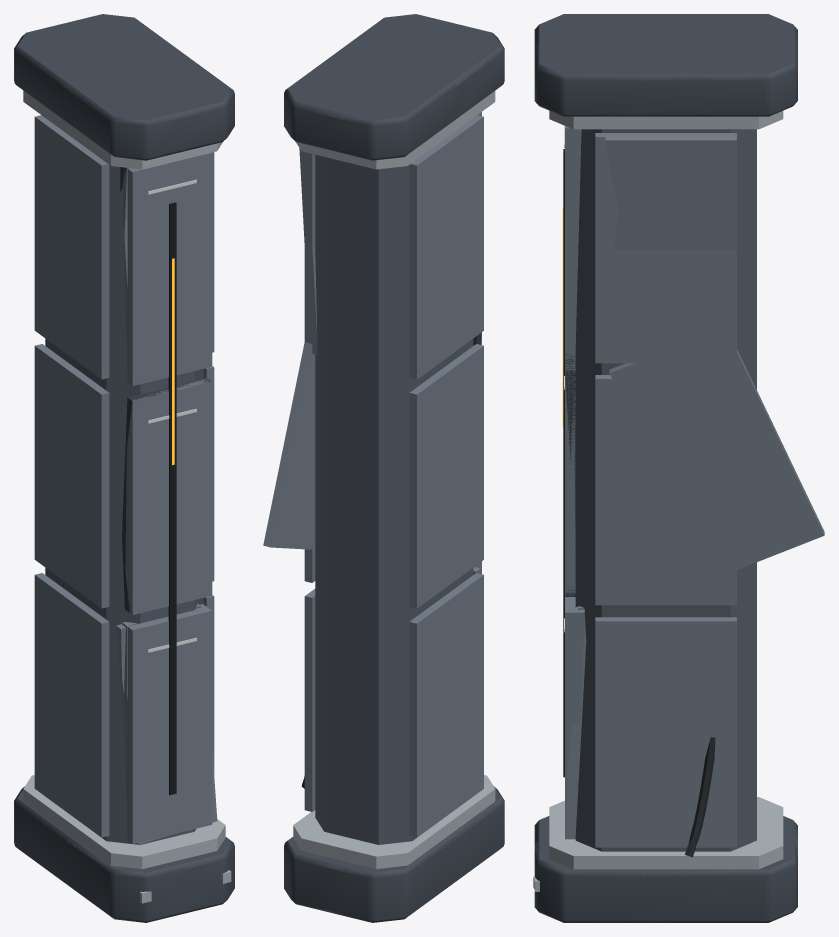
File: hlx_cmp_support_column_b.glb
The picture shows the model from 3 angles, left to right: view 1: azimuth 30°, elevation 25°; view 2: azimuth 150°, elevation 25°; view 3: azimuth 270°, elevation 25°; orthographic projection. The views are drawn at different scales.
Visible parts, largest first — view 1: mesh_intact, mesh_heavy, mesh_light; view 2: mesh_heavy, mesh_light, mesh_intact; view 3: mesh_heavy, mesh_intact, mesh_light.
Part boxes in pixels (bbox=[...]): mesh_intact: bbox=[34, 115, 231, 882]; mesh_heavy: bbox=[14, 14, 234, 922]; mesh_light: bbox=[15, 14, 230, 921]; mesh_heavy: bbox=[263, 14, 504, 922]; mesh_light: bbox=[288, 14, 503, 921]; mesh_intact: bbox=[304, 112, 483, 839]; mesh_heavy: bbox=[533, 14, 824, 922]; mesh_intact: bbox=[534, 126, 736, 891]; mesh_light: bbox=[534, 14, 797, 922].
Bounding box in the file's own units: 0.2997 × 1.6 × 0.4976.
